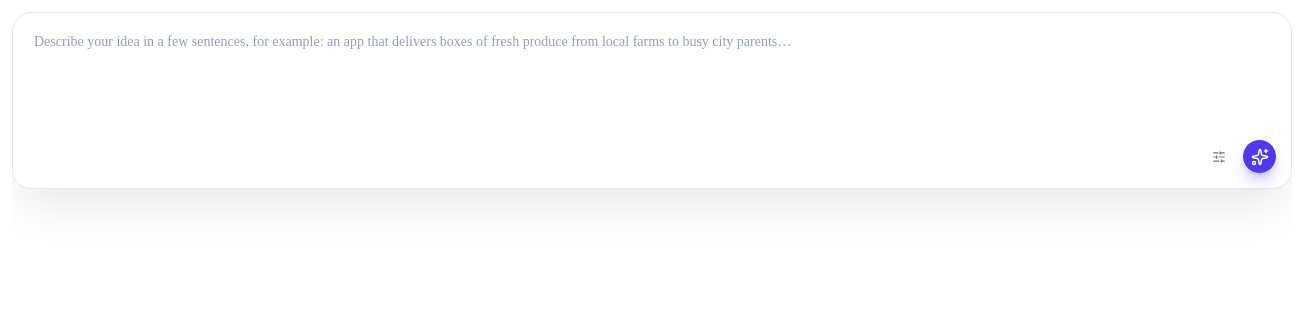
Test: IdeaForm › offers only business case and environment scan, and auto-approve, behind the options button
Click the button named "Options". click: (1219, 156)
box: [1202, 139, 1237, 174]
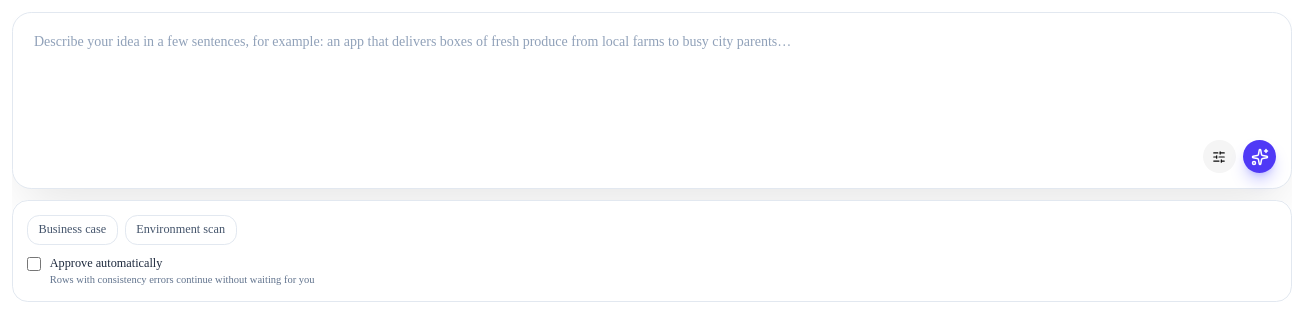
Now the checkbox labelled "Business case" is shown, box [27, 214, 118, 244]
Now the checkbox labelled "Environment scan" is shown, box [125, 214, 236, 244]
Now the checkbox labelled "Approve automatically" is not checked, box [27, 257, 41, 271]
